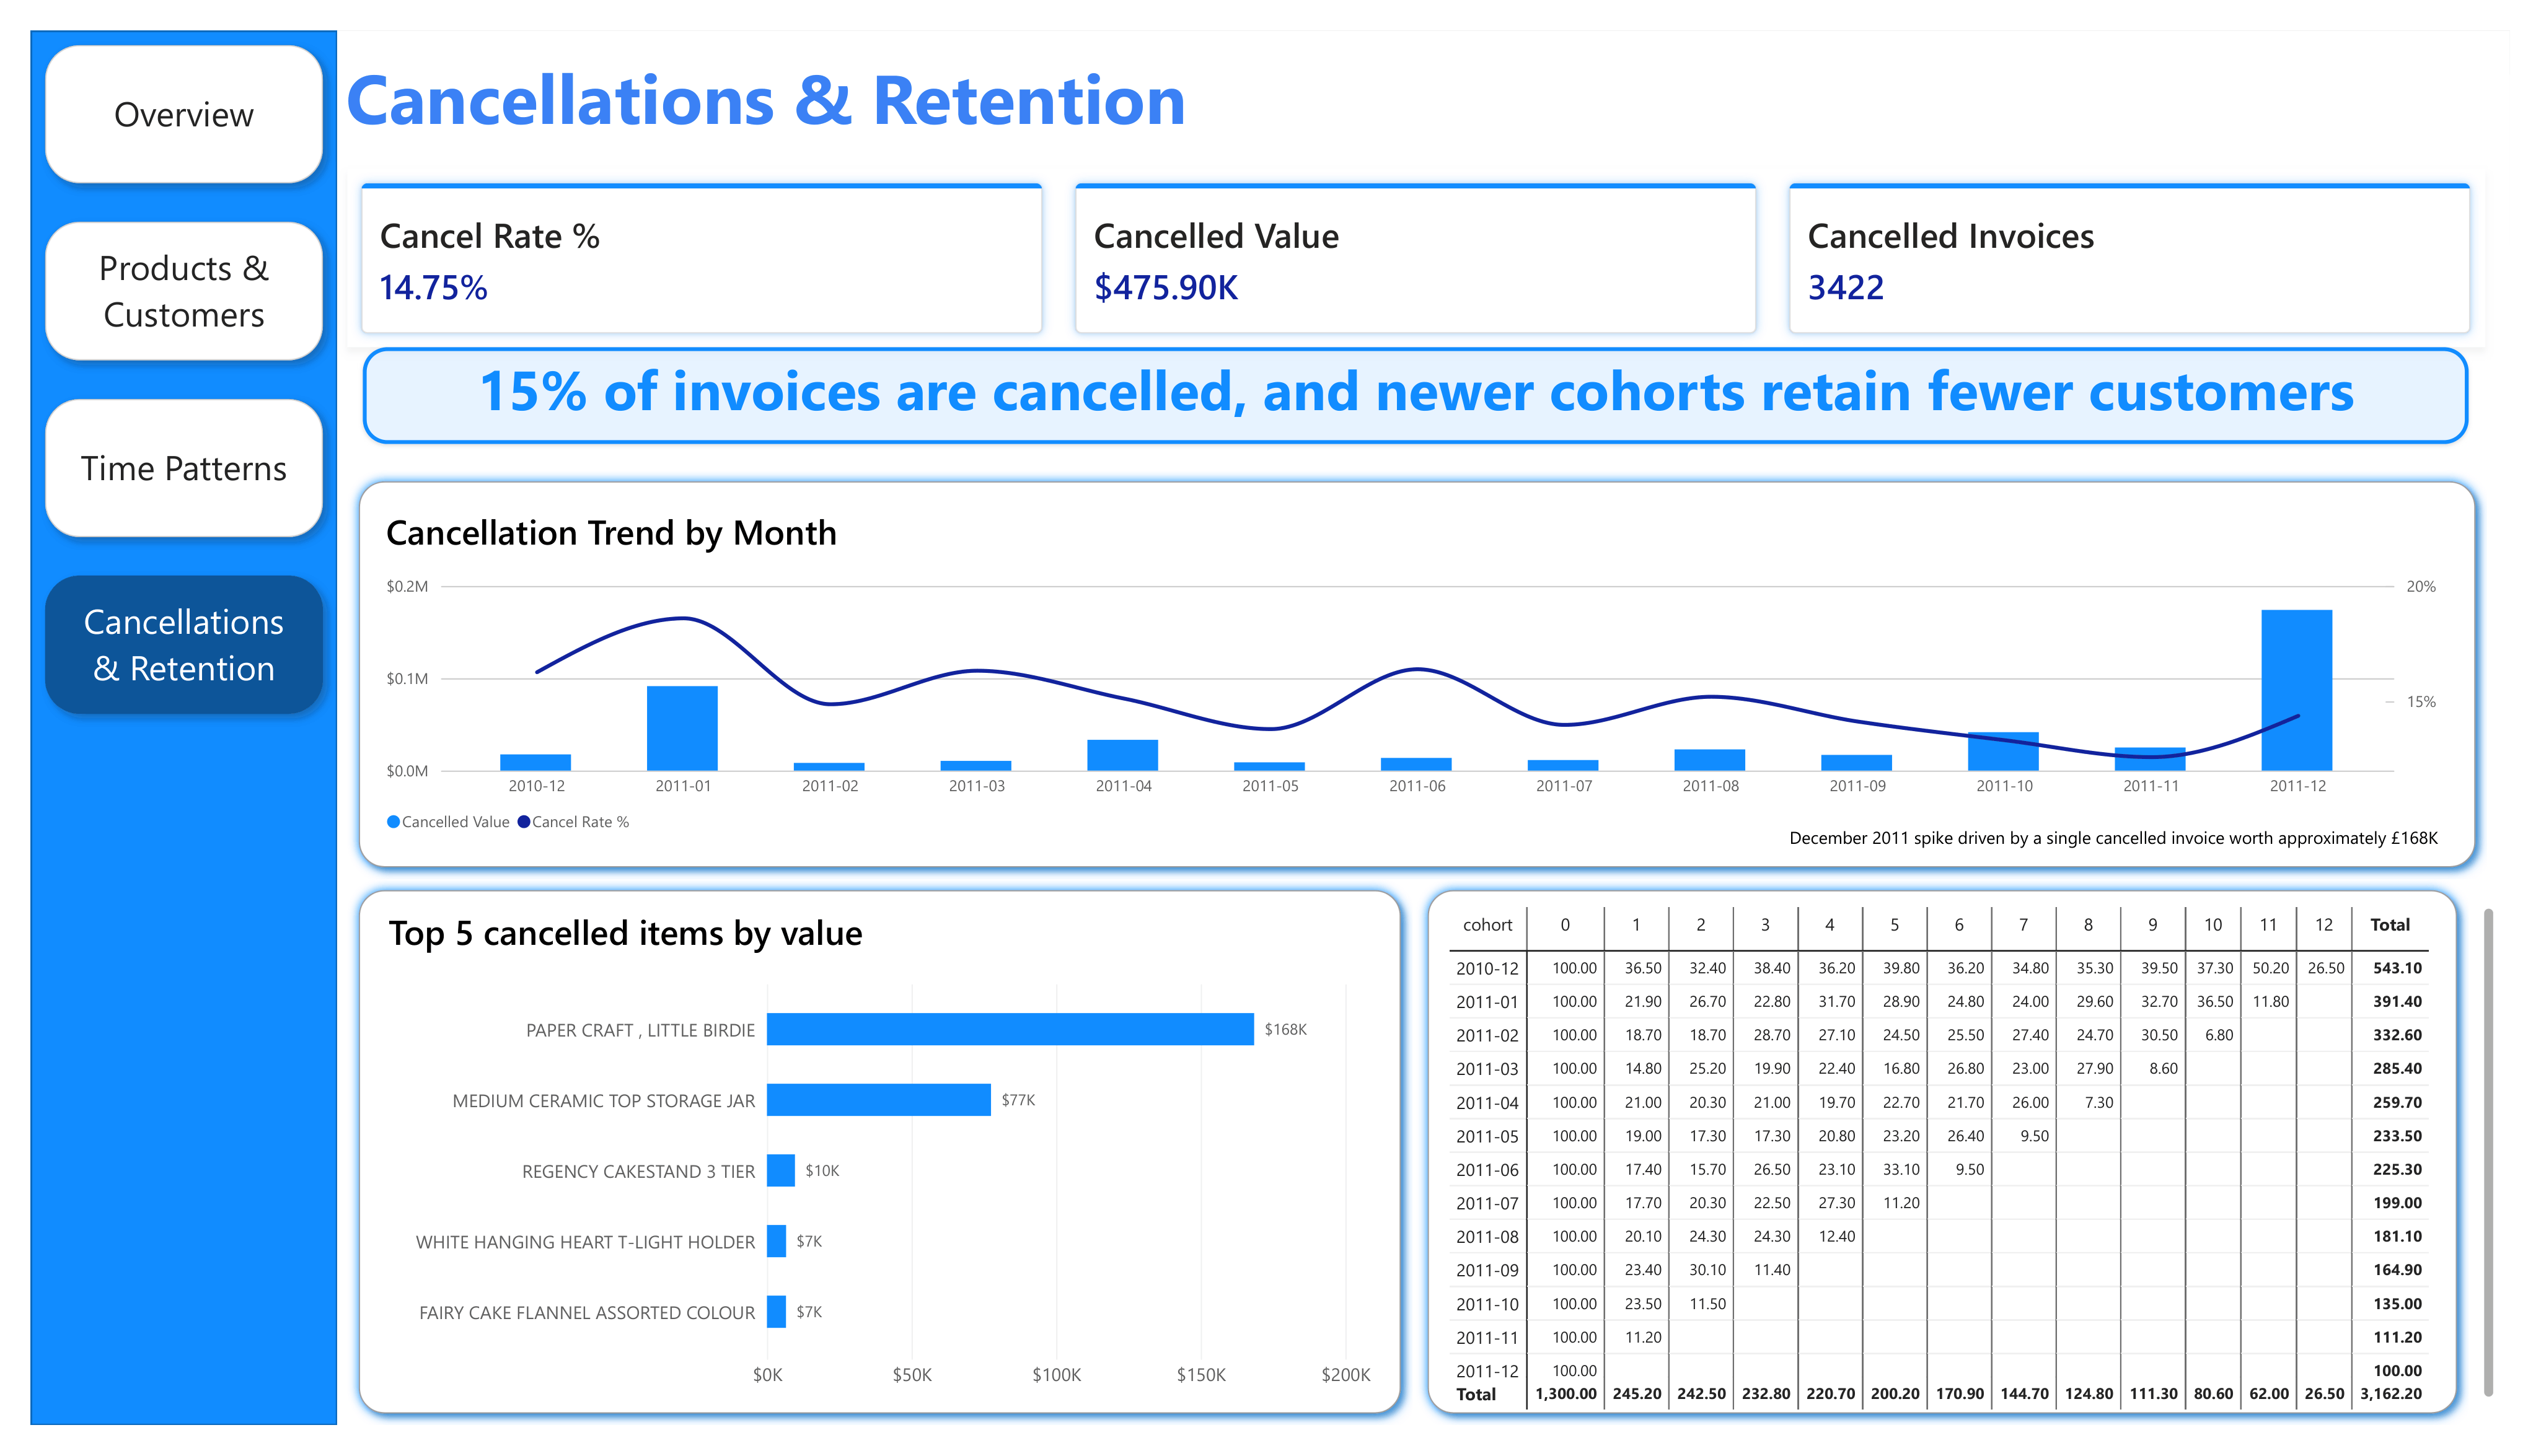

The dashboard page shown, as its layout file describes it:
{"tool":"powerbi","page":{"name":"Cancellations & Retention","canvas":[1920,1080],"ordinal":3},"visuals":[{"type":"shape","box":[1073.3,656.7,815,423.3],"z":0},{"type":"shape","box":[245,656.7,825,423.3],"z":1000},{"type":"shape","box":[0,0,237.1,1080],"z":2000},{"type":"pageNavigator","box":[0,0,237.1,540],"z":3000},{"type":"textbox","box":[244.3,14.3,825.7,72.9],"z":4000},{"type":"cardVisual","fields":{"Data":["_Measures (2).Cancel Rate %","_Measures (2).Cancelled Value","_Measures (2).Cancelled Invoices"]},"box":[245,106.7,1656.1,138.4],"z":5000},{"type":"shape","box":[245,340,1656.7,316.7],"z":6000},{"type":"textbox","box":[256.7,245,1631.7,75],"z":7000},{"type":"lineStackedColumnComboChart","title":"Cancellation Trend by Month","fields":{"Category":["Calendar.Year Month"],"Y":["_Measures (2).Cancelled Value"],"Y2":["_Measures (2).Cancel Rate %"]},"box":[263.3,356.7,1611.7,281.7],"z":8000},{"type":"textbox","box":[1362,616,513.3,23.3],"z":9000},{"type":"clusteredBarChart","title":"Top 5 cancelled items by value","fields":{"Category":["ecommerce_analytics online_retail.description"],"Y":["_Measures (2).Cancelled Value"]},"box":[265,666.7,785,401.7],"z":10000},{"type":"pivotTable","fields":{"Columns":["ecommerce_analytics vw_cohort_retention.month_index"],"Rows":["ecommerce_analytics vw_cohort_retention.cohort"],"Values":["Sum(ecommerce_analytics vw_cohort_retention.retention_pct)"]},"box":[1086.7,666.7,833.3,413.3],"z":11000}]}

Visuals, with their boxes on the page's 1920x1080 design canvas (x1, y1, x2, y2). These are canvas units, not pixel positions in the 2541x1456 screenshot, which may show the page scaled, cropped or inside an application window:
shape: <bbox>1073, 657, 1888, 1080</bbox>
shape: <bbox>245, 657, 1070, 1080</bbox>
shape: <bbox>0, 0, 237, 1080</bbox>
pageNavigator: <bbox>0, 0, 237, 540</bbox>
textbox: <bbox>244, 14, 1070, 87</bbox>
cardVisual - _Measures (2).Cancel Rate % x _Measures (2).Cancelled Value: <bbox>245, 107, 1901, 245</bbox>
shape: <bbox>245, 340, 1902, 657</bbox>
textbox: <bbox>257, 245, 1888, 320</bbox>
"Cancellation Trend by Month" lineStackedColumnComboChart: <bbox>263, 357, 1875, 638</bbox>
textbox: <bbox>1362, 616, 1875, 639</bbox>
"Top 5 cancelled items by value" clusteredBarChart: <bbox>265, 667, 1050, 1068</bbox>
pivotTable - ecommerce_analytics vw_cohort_retention.month_index x ecommerce_analytics vw_cohort_retention.cohort: <bbox>1087, 667, 1920, 1080</bbox>
